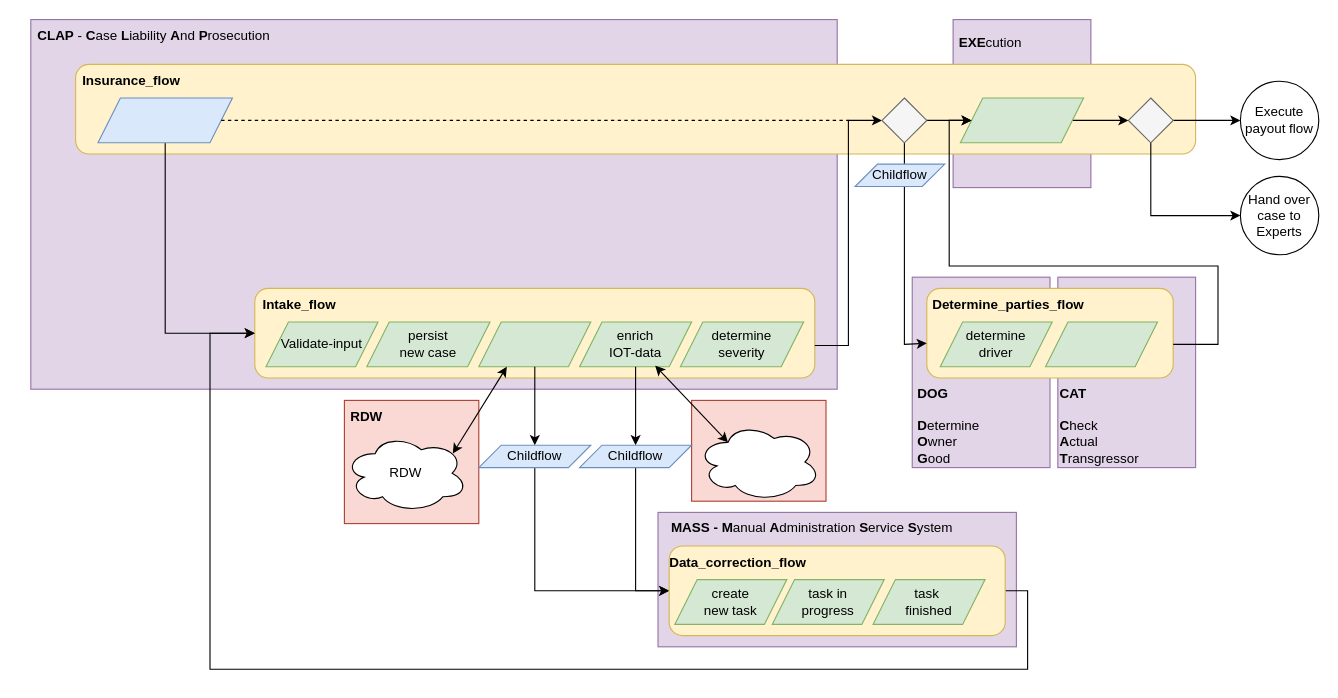
Image size: 1338x698. Some labels were removed from this diagram. Here are the shapes that lost their labels. From the top down, the centre of each, then its label:
[164,120]: Childflow Intake_flow
[1021,120]: prepare to execution
[534,344]: enrich RDW-data
[1101,344]: determine guilty party
[758,461]: IOT
